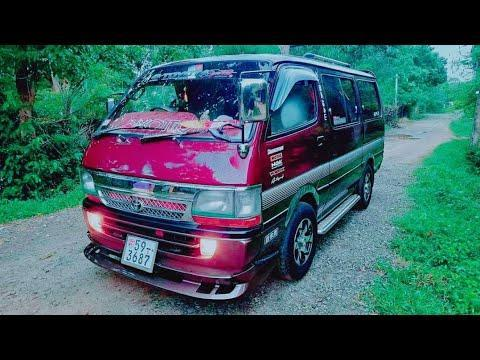car: (81, 51, 390, 306)
